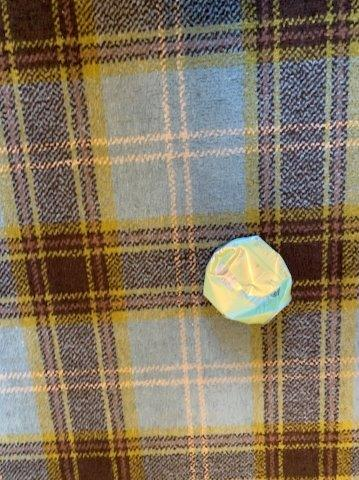kaleng: (202, 237, 291, 325)
